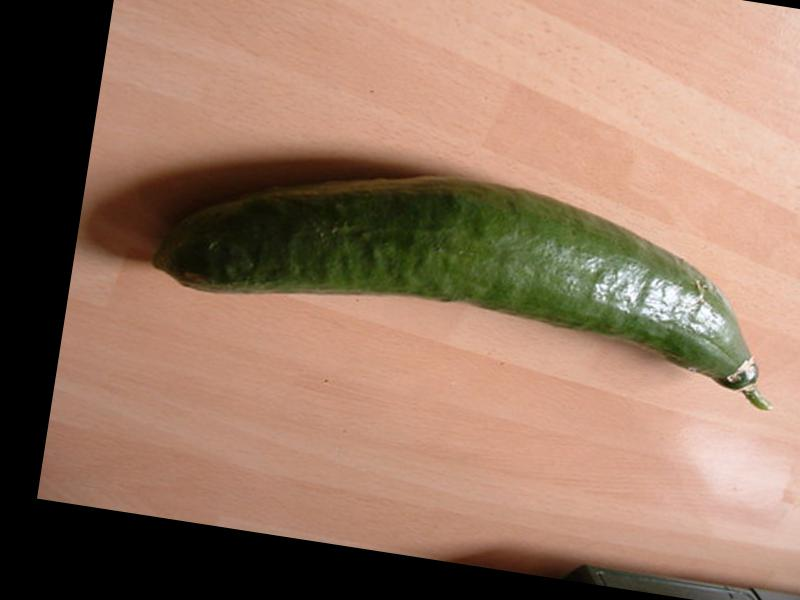Cucumber: (141, 129, 798, 410)
